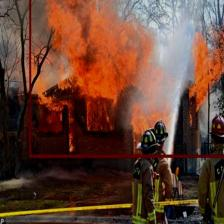fire: (28, 0, 224, 157)
